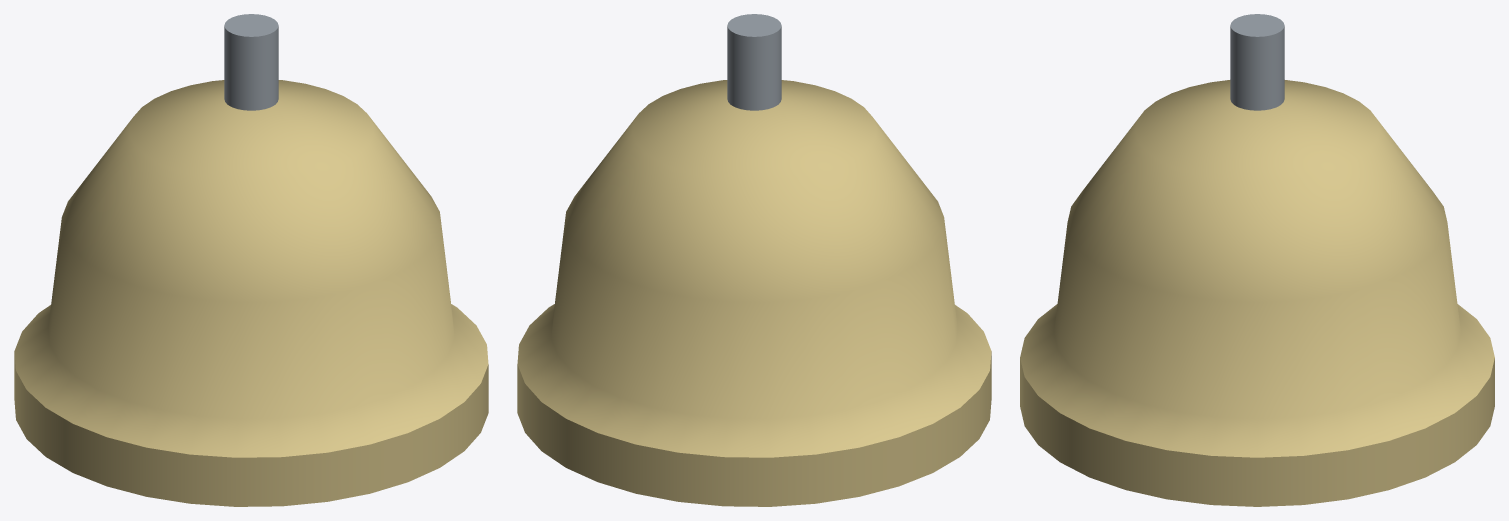
File: bell.glb
3 views of the same model, side by side, from view 1: azimuth 30°, elevation 25°; view 2: azimuth 150°, elevation 25°; view 3: azimuth 270°, elevation 25° (orthographic).
Parts seen in each view (by area): view 1: bell, Cylinder; view 2: bell, Cylinder; view 3: bell, Cylinder.
Part boxes in pixels (x1,y1,x2,y2): bell: (14,80,488,506); Cylinder: (224,14,278,110); bell: (517,80,991,506); Cylinder: (727,14,781,110); bell: (1020,80,1494,506); Cylinder: (1230,14,1284,110).
Size of the model in its own units: 0.07 by 0.062 by 0.07.
